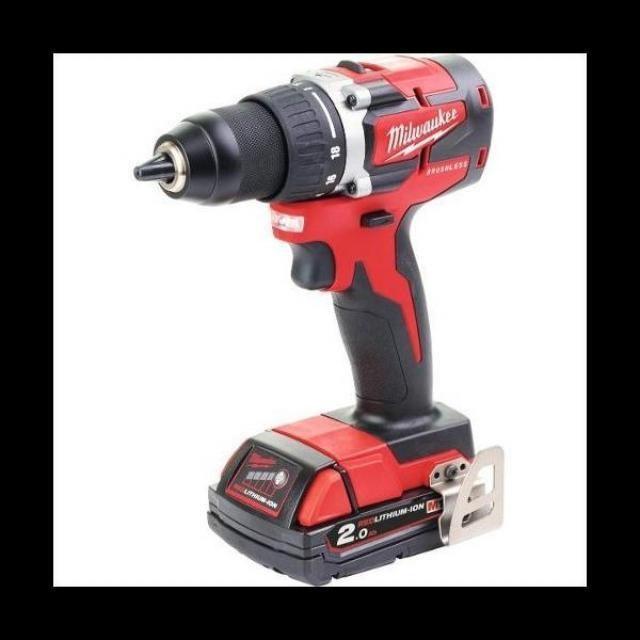drill: (132, 53, 506, 588)
